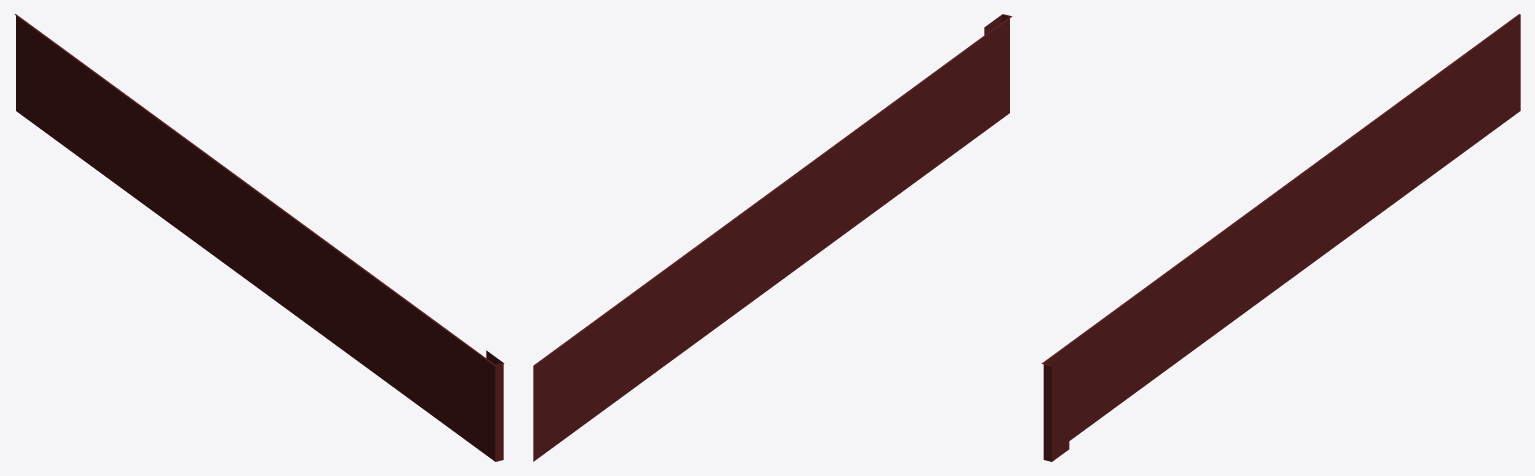
The model's file is p55-wall-endface-3-base.fbx.
3 renders of one model, left to right at view 1: azimuth 30°, elevation 25°; view 2: azimuth 150°, elevation 25°; view 3: azimuth 330°, elevation 25°, orthographic.
Parts seen in each view (by area): view 1: p55-wall-endface-3-base; view 2: p55-wall-endface-3-base; view 3: p55-wall-endface-3-base.
Part boxes in pixels (left/top/right/bottom): p55-wall-endface-3-base: left=14, top=14, right=504, bottom=461; p55-wall-endface-3-base: left=533, top=14, right=1012, bottom=461; p55-wall-endface-3-base: left=1041, top=14, right=1520, bottom=461.
Bounding box in the file's own units: 30.01 × 280 × 2515.
